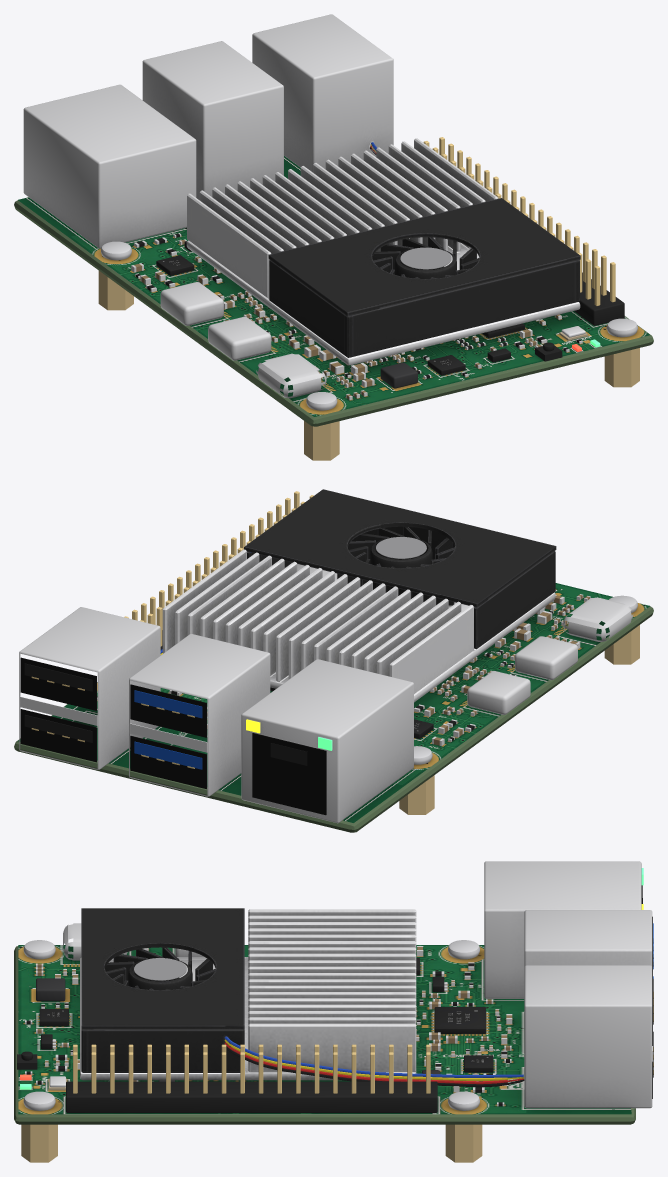
The model's file is companion_computer_visual.glb.
The picture shows the model from 3 angles, top to bottom: view 1: azimuth 30°, elevation 25°; view 2: azimuth 150°, elevation 25°; view 3: azimuth 270°, elevation 25°; orthographic projection. The views are drawn at different scales.
Visible parts, largest first — view 1: companion_computer; view 2: companion_computer; view 3: companion_computer.
Boxes of the visible parts, x1=… form: companion_computer: x1=14, y1=14, x2=653, y2=460; companion_computer: x1=14, y1=489, x2=653, y2=832; companion_computer: x1=14, y1=861, x2=653, y2=1162.
Bounding box in the file's own units: 0.0567 × 0.0232 × 0.0875.
29 materials, 6 textured.
